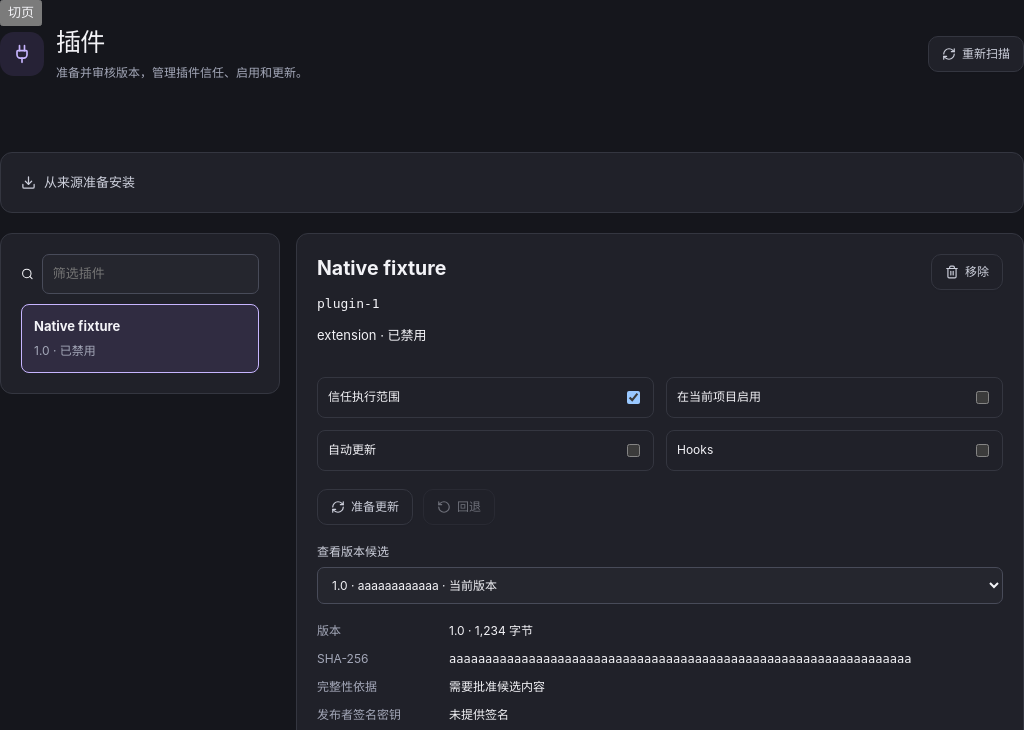
Test: keeps Hooks disabled until inspected event, entry and permissions are confirmed
Later steps or results of the test are not shown.
Check: the heading "Native fixture" is shown, box [317,254,446,284]
Click the checkbox labelled "Hooks": click(982, 450) [976,444,989,457]
(page scrolled)
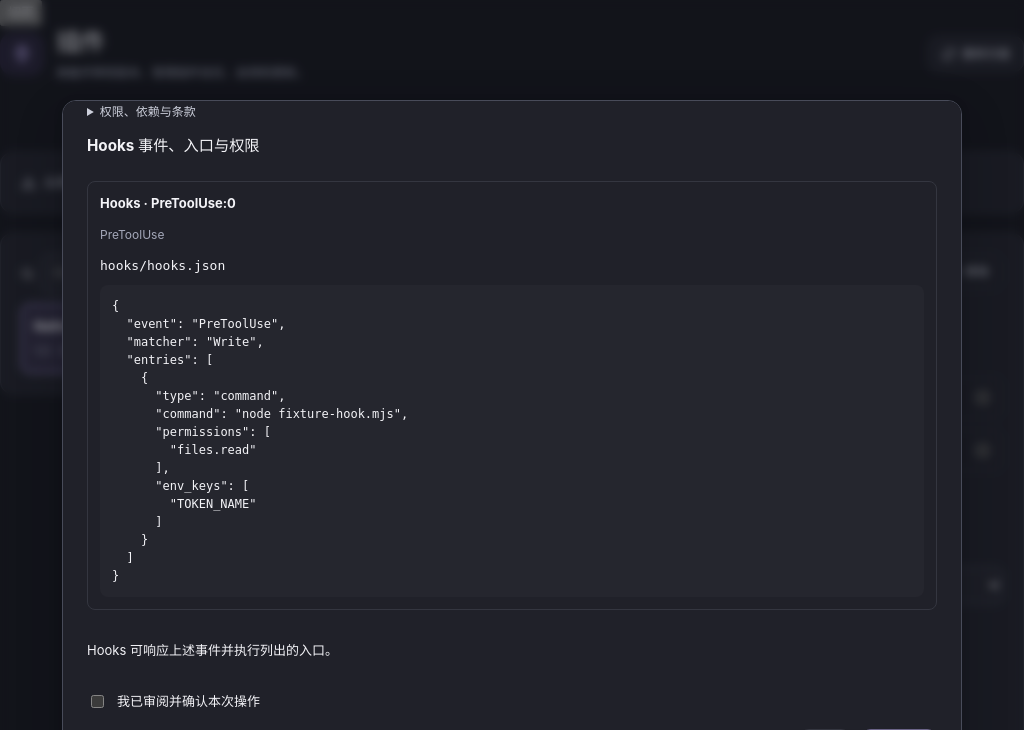
Check: the dialog shows "PreToolUse", box [100,227,164,242]
Check: the dialog shows "node fixture-hook.mjs", box [112,299,408,583]
Check: the dialog shows "files.read", box [112,299,408,583]
